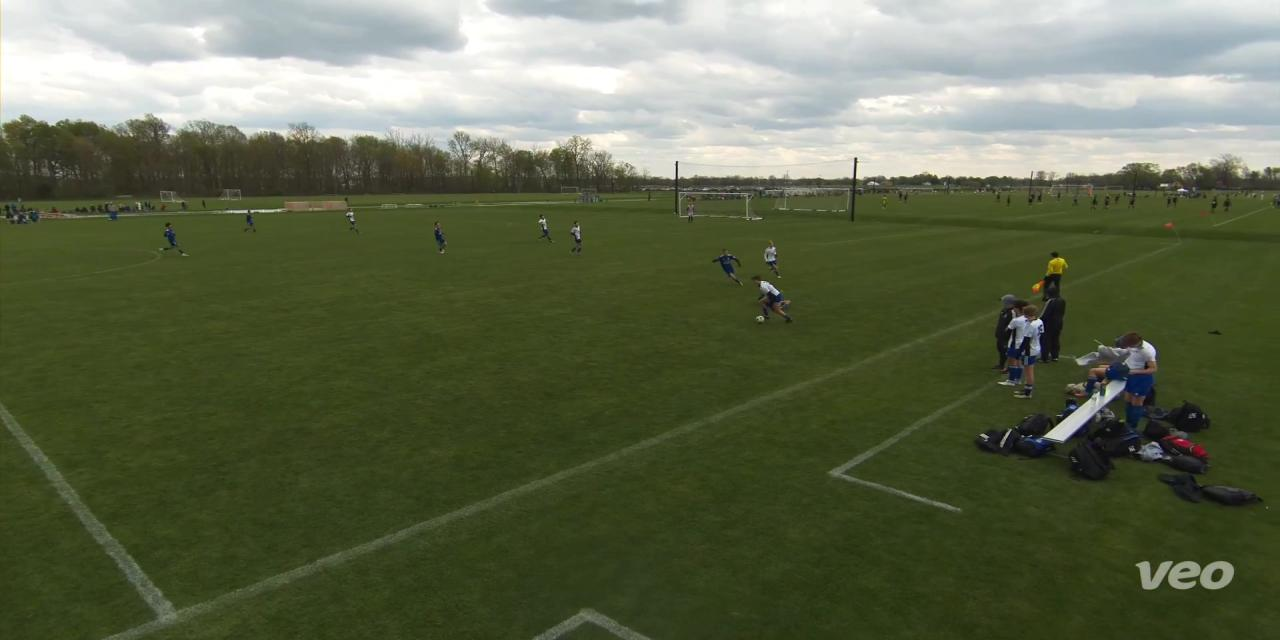goal: (671, 188, 772, 222)
sports ball: (752, 311, 769, 328)
